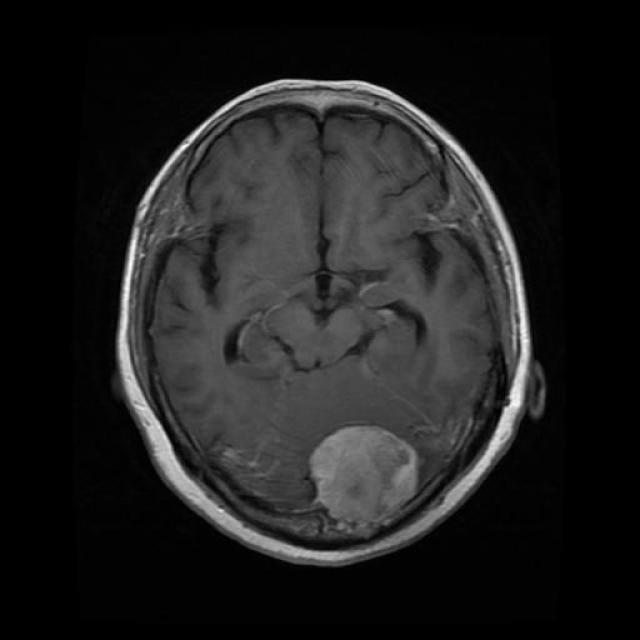Meningioma: (310, 427, 419, 536)
